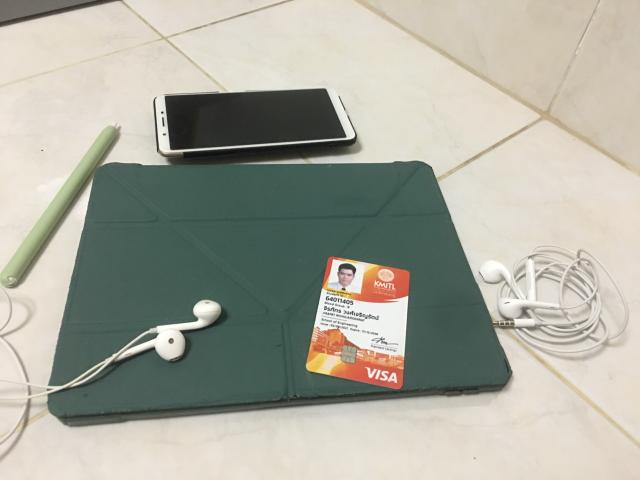Mobile phone: (154, 89, 355, 158)
wire: (0, 300, 221, 400), (479, 245, 629, 354)
